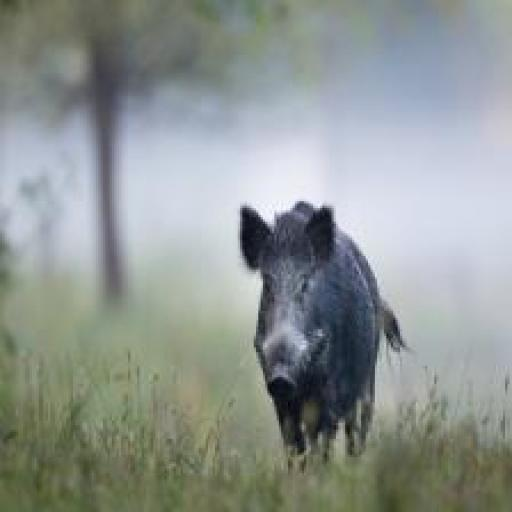Pig: (240, 201, 411, 461)
